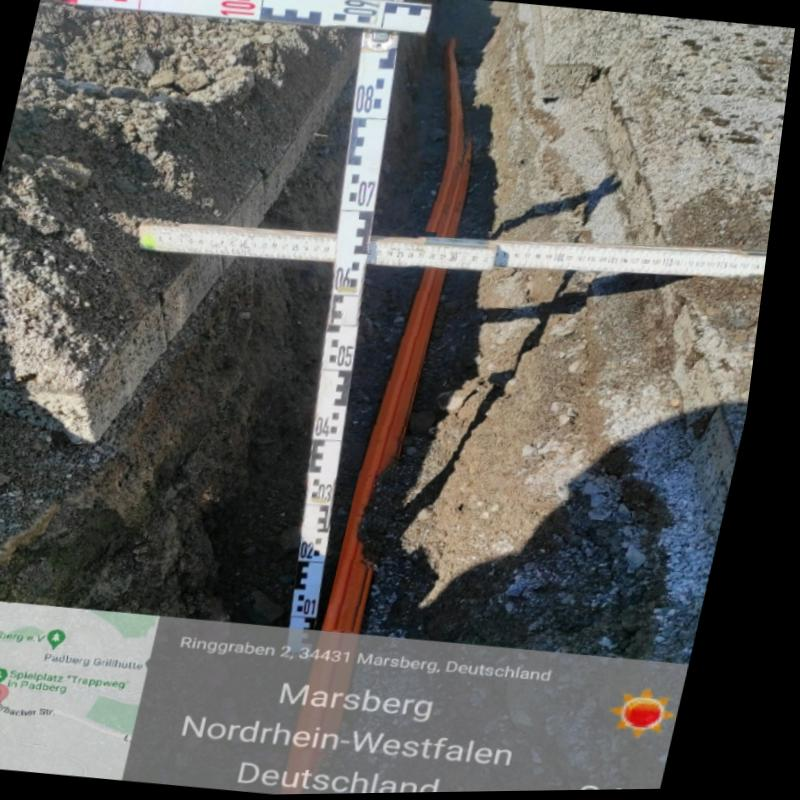Orang-Speednetrohrchen: (339, 272, 452, 632), (435, 40, 468, 234)
